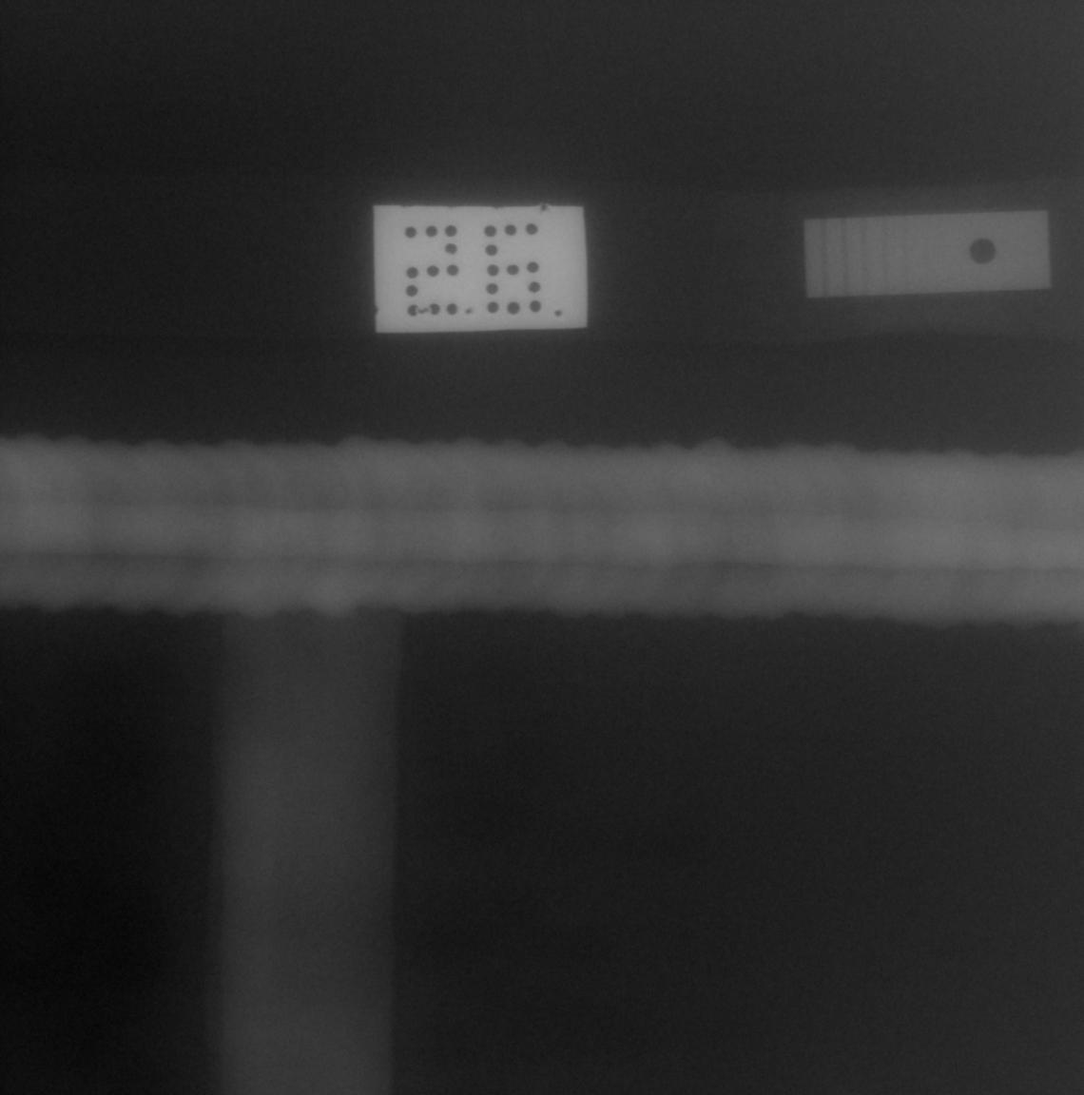Pore/Porosity: (496, 590, 506, 596)
Reference Standard 1: (804, 210, 1051, 298)
